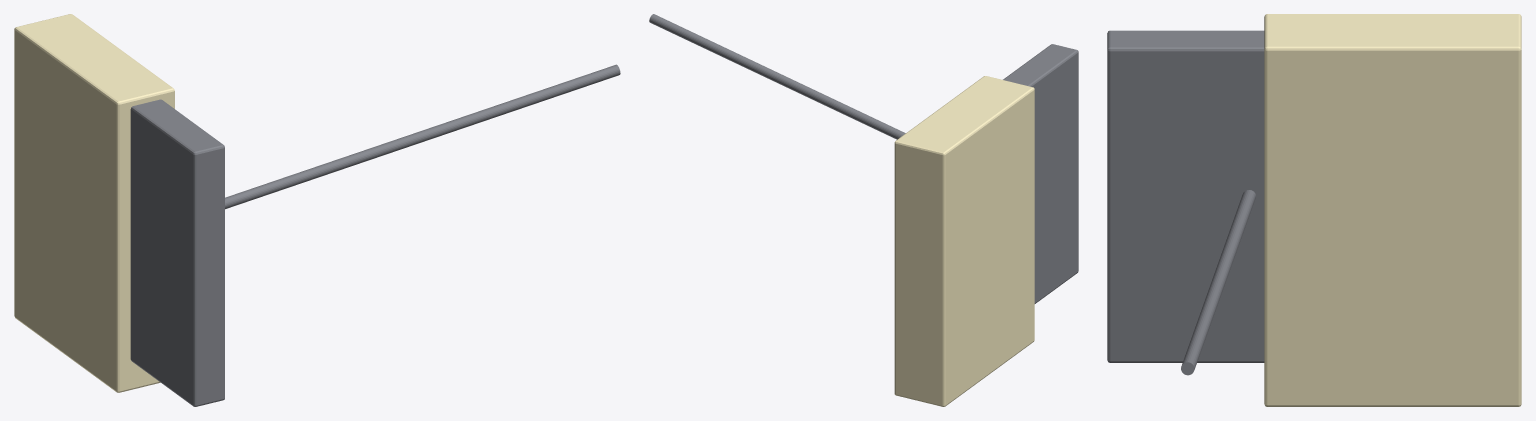
The model's file is alley-projecting-sign-wires.glb.
The picture shows the model from 3 angles, left to right: view 1: azimuth 30°, elevation 25°; view 2: azimuth 150°, elevation 25°; view 3: azimuth 270°, elevation 25°; orthographic projection. The views are drawn at different scales.
Visible parts, largest first — view 1: SignCabinet, WallBracket, FeederWire; view 2: SignCabinet, WallBracket, FeederWire; view 3: SignCabinet, WallBracket, FeederWire.
Part boxes in pixels (x1,y1,x2,y2): SignCabinet: (14, 14, 174, 392); WallBracket: (130, 99, 224, 406); FeederWire: (225, 64, 620, 209); SignCabinet: (894, 76, 1034, 406); WallBracket: (1003, 44, 1078, 303); FeederWire: (649, 14, 905, 139); SignCabinet: (1264, 14, 1521, 406); WallBracket: (1107, 30, 1264, 362); FeederWire: (1181, 190, 1255, 375).
Bounding box in the file's own units: 1.77 × 1.05 × 1.09.
